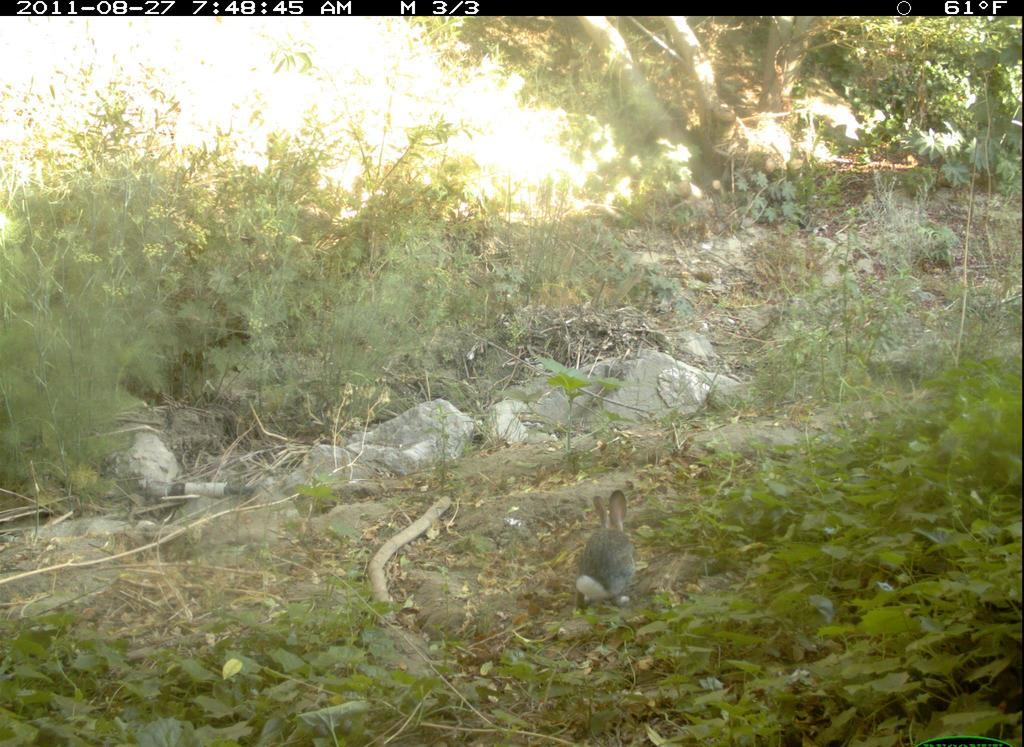rabbit: (556, 473, 656, 626)
